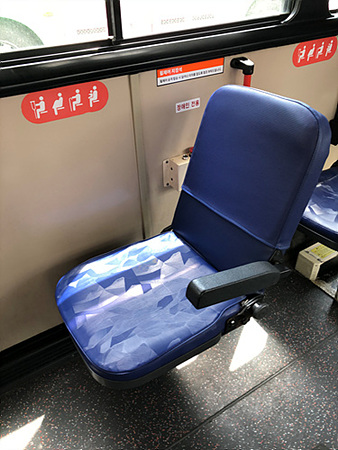seat: (56, 85, 333, 391)
